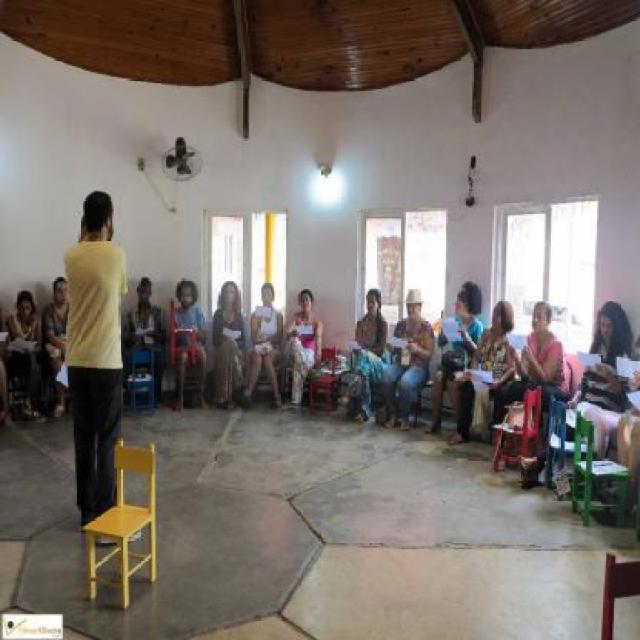Person: (123, 280, 639, 515), (51, 174, 137, 548), (4, 290, 42, 421), (44, 278, 70, 416), (0, 301, 12, 413)
